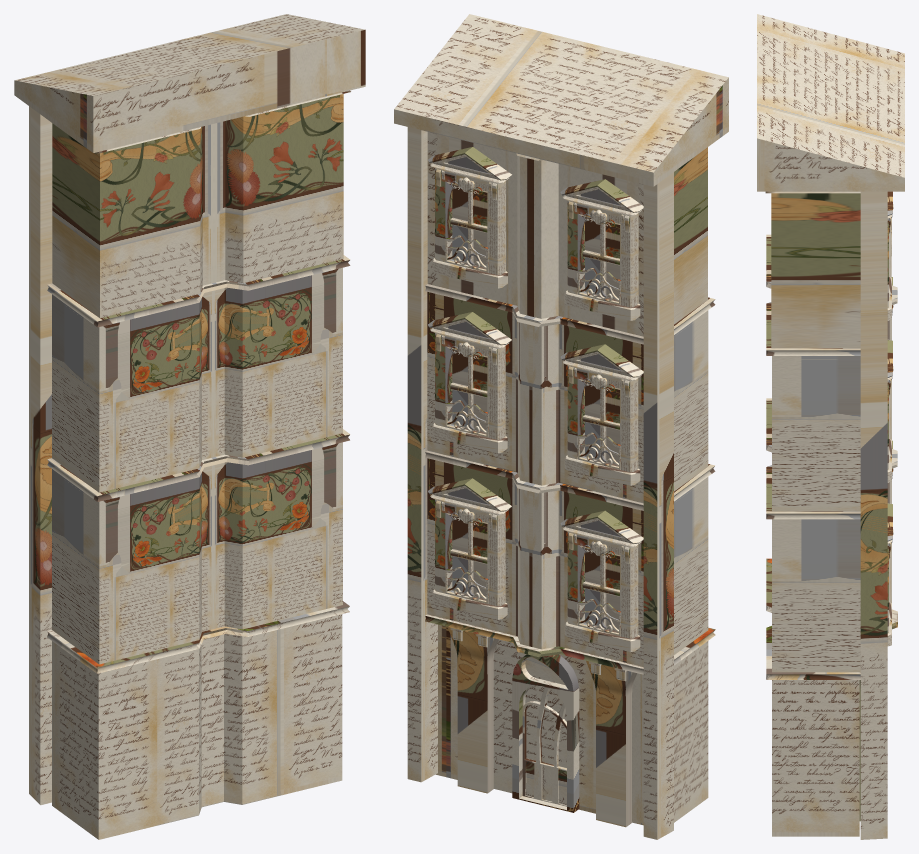
The model's file is batiment_entier (2).fbx.
3 renders of one model, left to right at view 1: azimuth 30°, elevation 25°; view 2: azimuth 150°, elevation 25°; view 3: azimuth 270°, elevation 25°, orthographic. The views are drawn at different scales.
Visible parts, largest first — view 1: pCube426, pCube425, polySurface3266, polySurface3264, pCube427; view 2: pCube426, pCube425, polySurface3266, polySurface3264, pCube427, pCube417, polySurface3270, polySurface3268, polySurface3265, polySurface3269, polySurface3267, polySurface3260; view 3: pCube426, pCube417, polySurface3266, polySurface3264, pCube425, polySurface3267, polySurface3260, polySurface3269.
Part boxes in pixels (x1,y1,x2,y2): pCube426: (14, 14, 365, 317); pCube425: (47, 601, 349, 839); polySurface3266: (47, 255, 350, 492); polySurface3264: (47, 429, 350, 664); pCube427: (29, 106, 52, 805); pCube426: (394, 14, 728, 336); pCube425: (425, 614, 715, 827); polySurface3266: (425, 284, 715, 503); polySurface3264: (425, 450, 715, 666); pCube427: (643, 172, 673, 839); pCube417: (407, 127, 437, 782); polySurface3270: (560, 179, 643, 320); polySurface3268: (560, 344, 643, 485); polySurface3265: (560, 510, 643, 651); polySurface3269: (428, 147, 511, 288); polySurface3267: (428, 312, 511, 453); polySurface3260: (428, 478, 511, 619); pCube426: (757, 14, 904, 348); pCube417: (860, 191, 887, 839); polySurface3266: (766, 234, 897, 511); polySurface3264: (766, 398, 897, 672); pCube425: (766, 558, 897, 836); polySurface3267: (887, 339, 893, 482); polySurface3260: (887, 503, 893, 646); polySurface3269: (887, 191, 893, 320).
Bounding box in the file's own units: 19.05 × 50.39 × 9.58.
